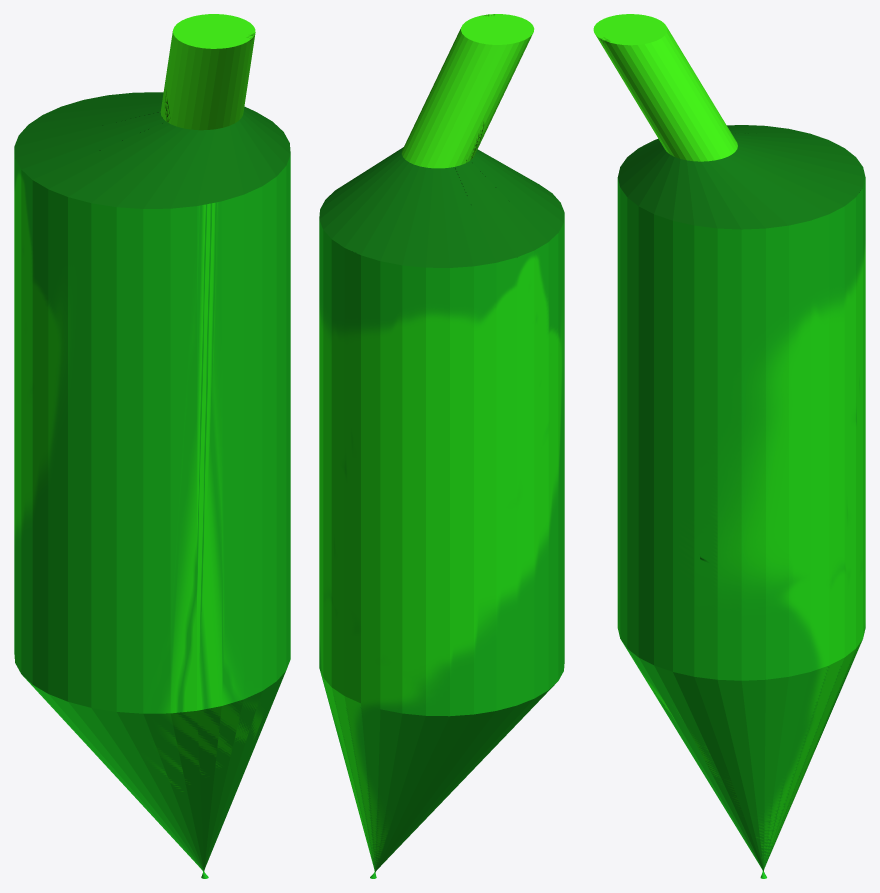
Rendered from Pimiento.fbx.
3 views of the same model, side by side, from view 1: azimuth 30°, elevation 25°; view 2: azimuth 150°, elevation 25°; view 3: azimuth 270°, elevation 25° (orthographic). The views are drawn at different scales.
Visible parts, largest first — view 1: Cylinder; view 2: Cylinder; view 3: Cylinder.
Part boxes in pixels (bbox=[...]): Cylinder: bbox=[14, 14, 290, 878]; Cylinder: bbox=[319, 14, 564, 878]; Cylinder: bbox=[593, 14, 865, 878].
Size of the model in its own units: 20.14 by 73.51 by 22.12.
